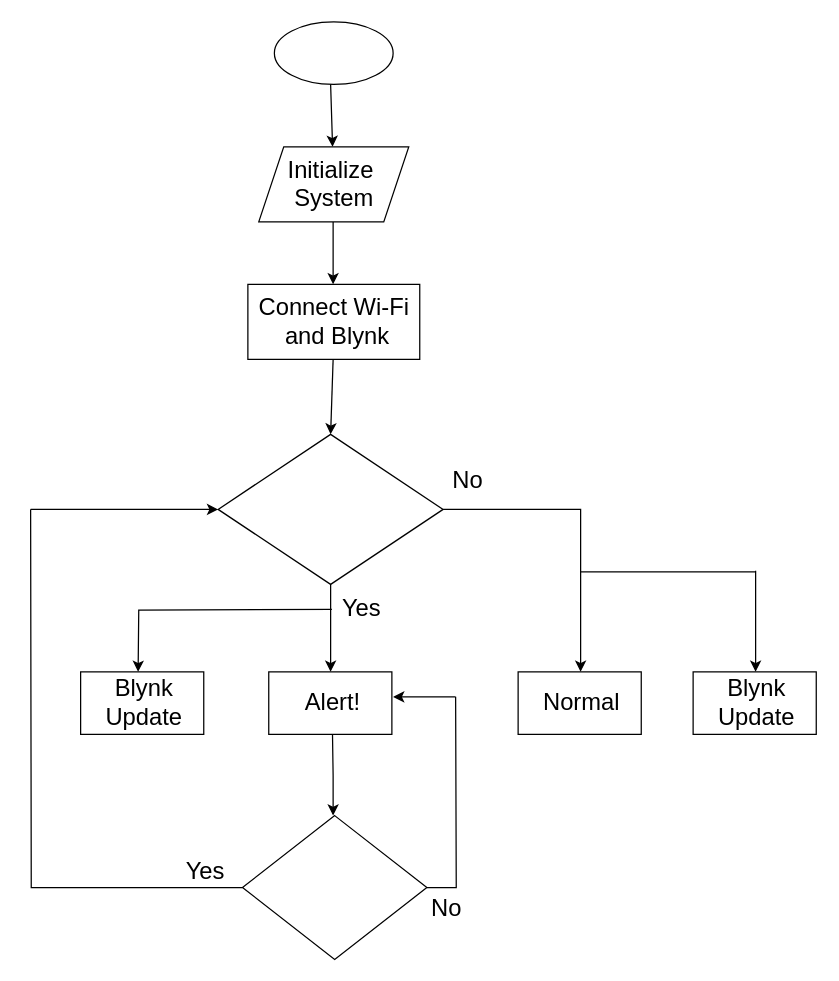
Image size: 839x981. Some labels were removed from this diagram. Each missing label, with the centre of its shape:
Auto Reset: the point at 334,886
Read Sensors (Is Fire?): the point at 330,508
Start: the point at 333,52
